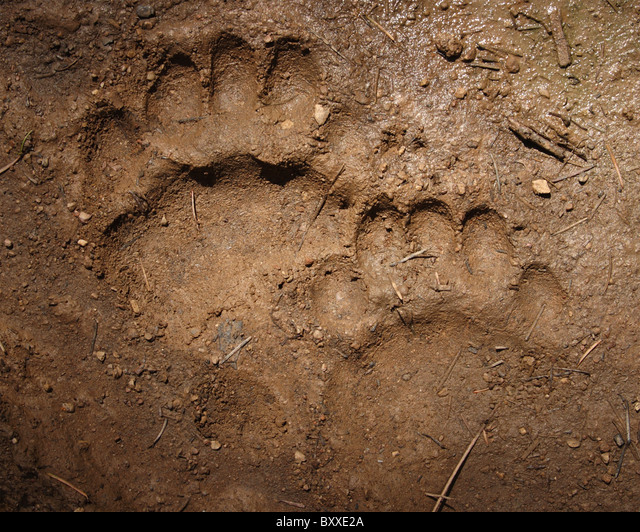bear: (298, 197, 582, 458), (66, 20, 348, 254)
